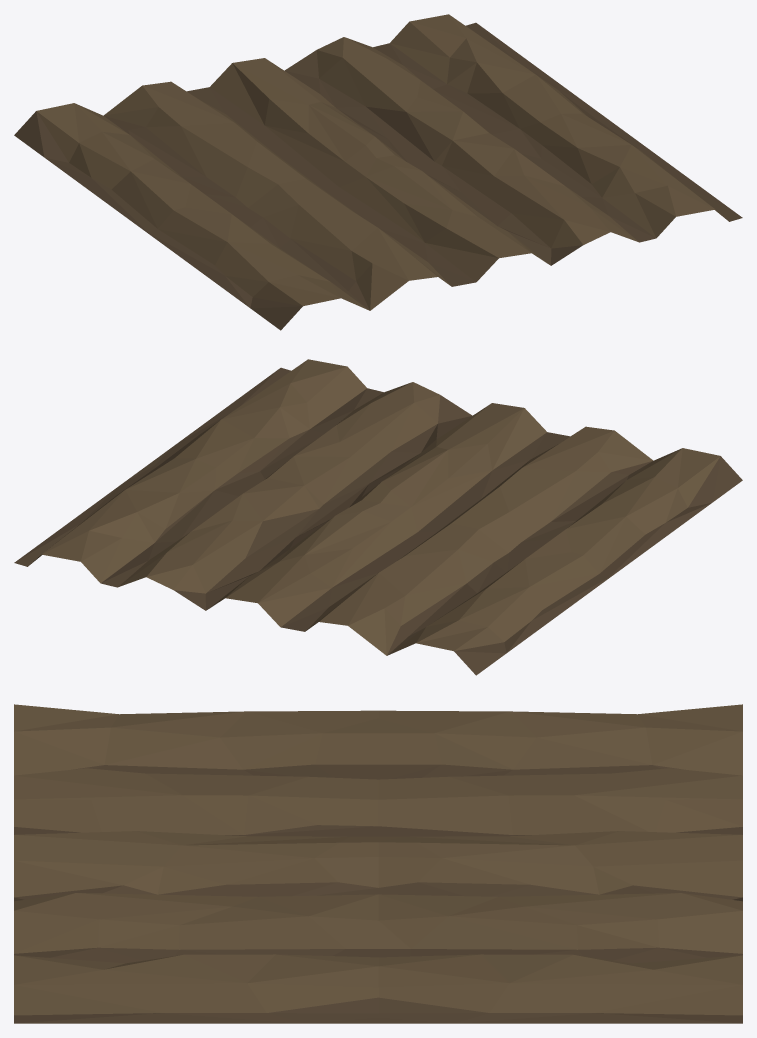
Rendered from SM_Envr_Nature_Farm_Field_Row_Mid.fbx.
The picture shows the model from 3 angles, top to bottom: view 1: azimuth 30°, elevation 25°; view 2: azimuth 150°, elevation 25°; view 3: azimuth 270°, elevation 25°; orthographic projection. The views are drawn at different scales.
Parts seen in each view (by area): view 1: SM_Envr_Nature_Farm_Field_Row_Mid; view 2: SM_Envr_Nature_Farm_Field_Row_Mid; view 3: SM_Envr_Nature_Farm_Field_Row_Mid.
Boxes of the visible parts, left/top/right/bottom form: SM_Envr_Nature_Farm_Field_Row_Mid: left=14, top=14, right=742, bottom=330; SM_Envr_Nature_Farm_Field_Row_Mid: left=14, top=359, right=742, bottom=675; SM_Envr_Nature_Farm_Field_Row_Mid: left=14, top=704, right=742, bottom=1023.
Bounding box in the file's own units: 500 × 23.38 × 500.
